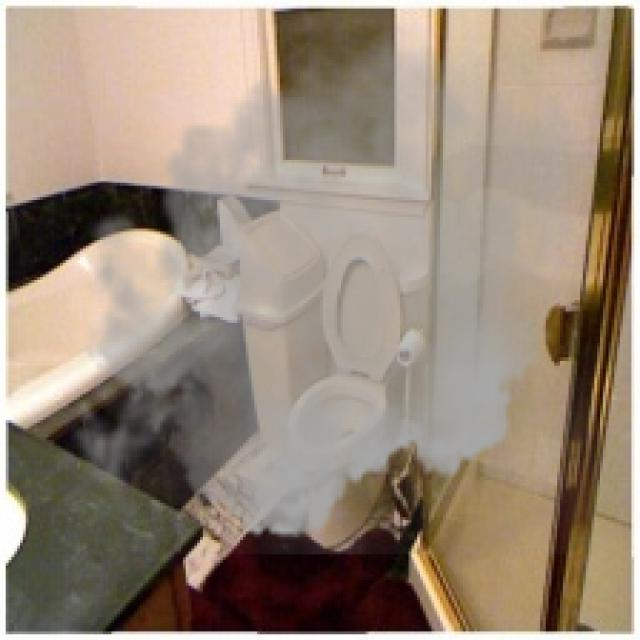smoke: (54, 0, 598, 555)
